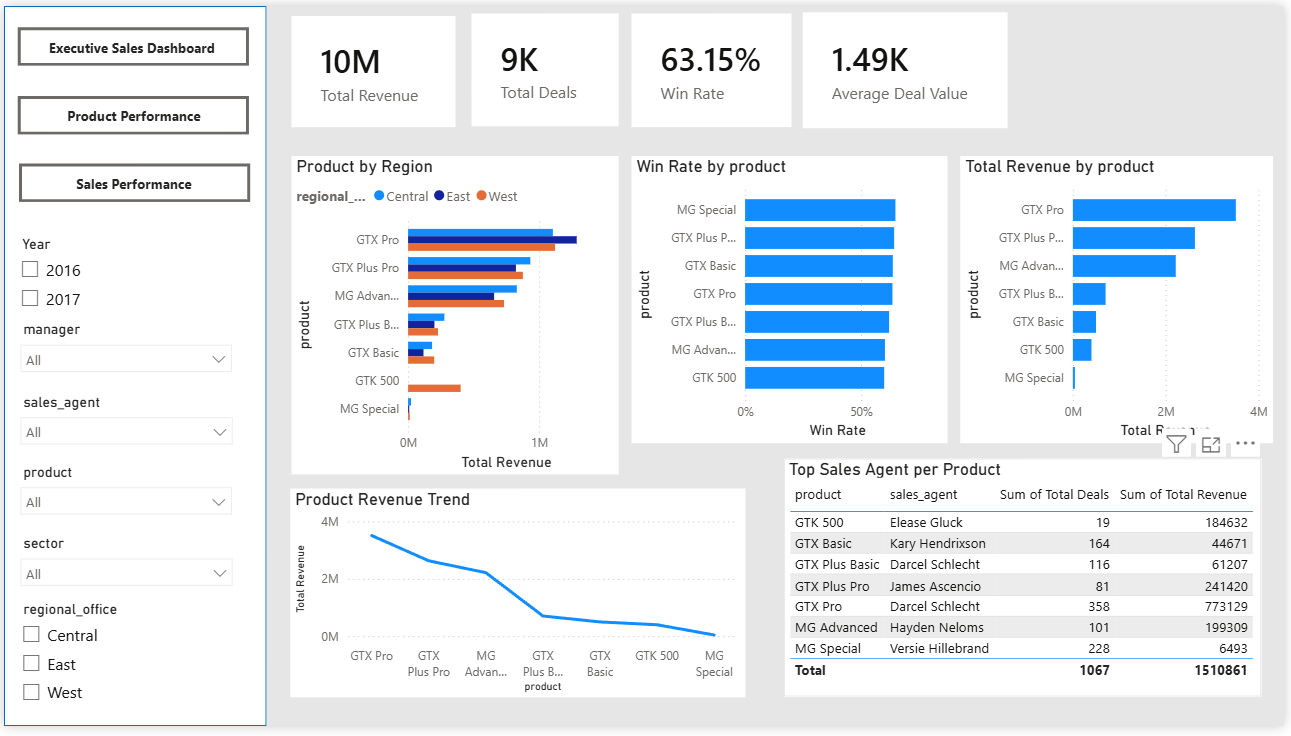

This screenshot's page, from the dashboard's own definition file:
{"tool":"powerbi","page":{"name":"Product Performance","canvas":[1280,720],"ordinal":1},"visuals":[{"type":"cardVisual","fields":{"Data":["Sales Pipeline.Total Revenue"]},"box":[287.5,10,163.8,111.2],"z":0},{"type":"actionButton","title":"Executive Sales Dashboard","box":[13.8,21.2,231.2,38.8],"z":0,"group":"g1"},{"type":"actionButton","title":"Executive Sales Dashboard","box":[13.8,90,231.2,38.8],"z":0,"group":"g2"},{"type":"actionButton","title":"Executive Sales Dashboard","box":[15,157.5,231.2,38.8],"z":0,"group":"g3"},{"type":"cardVisual","fields":{"Data":["Sales Pipeline.Total Deals"]},"box":[467.5,7.5,147.5,112.5],"z":1000},{"type":"textbox","box":[40,27.4,180,28.8],"z":1000,"group":"g1"},{"type":"textbox","box":[40,96.2,180,28.8],"z":1000,"group":"g2"},{"type":"textbox","box":[40,163.7,180,28.8],"z":1000,"group":"g3"},{"type":"cardVisual","fields":{"Data":["Sales Pipeline.Win Rate"]},"box":[627.5,7.5,160,113.8],"z":2000},{"type":"barChart","fields":{"Category":["Products.product"],"Y":["Sales Pipeline.Total Revenue"]},"box":[956.2,150,312.5,287.5],"z":3000},{"type":"cardVisual","fields":{"Data":["Sales Pipeline.Average Deal Value"]},"box":[798.8,6.2,205,116.2],"z":4000},{"type":"lineChart","title":"Product Revenue Trend","fields":{"Category":["Sales Pipeline.product"],"Y":["Sales Pipeline.Total Revenue"]},"box":[286.2,482.5,455,208.8],"z":5000},{"type":"clusteredBarChart","title":"Product by Region","fields":{"Category":["Sales Pipeline.product"],"Series":["Sales Teams.regional_office"],"Y":["Sales Pipeline.Total Revenue"]},"box":[287.5,150,327.5,318.8],"z":6000},{"type":"tableEx","title":"Top Sales Agent per Product","fields":{"Values":["Sales Product Summary.product","Sales Product Summary.sales_agent","Sum(Sales Product Summary.Total Deals)","Sum(Sales Product Summary.Total Revenue)"]},"box":[780,452.5,477.5,238.8],"z":7000},{"type":"shape","box":[0,0,262.5,720],"z":9000},{"type":"slicer","fields":{"Values":["Sales Teams.manager"]},"box":[6.2,310,231.2,61.2],"z":10000},{"type":"slicer","fields":{"Values":["Accounts.sector"]},"box":[6.3,523.6,232.5,66.2],"z":11000},{"type":"slicer","fields":{"Values":["Sales Teams.sales_agent"]},"box":[5.8,382.6,232.5,70],"z":12000},{"type":"slicer","fields":{"Values":["Products.product"]},"box":[5.8,452.6,231.2,62.5],"z":13000},{"type":"slicer","fields":{"Values":["Calendar.Year"]},"box":[4.8,225.6,152.9,90.5],"z":14000},{"type":"slicer","fields":{"Values":["Sales Teams.regional_office"]},"box":[6.3,589.8,233.8,125],"z":15000},{"type":"group","id":"g1","title":"Group 1","box":[13.8,21.2,231.2,38.8],"z":16000},{"type":"group","id":"g2","title":"Group 2","box":[13.8,90,231.2,38.8],"z":17000},{"type":"group","id":"g3","title":"Group 3","box":[15,157.5,231.2,38.8],"z":18000},{"type":"clusteredBarChart","fields":{"Category":["Sales Pipeline.product"],"Y":["Sales Pipeline.Win Rate"]},"box":[627.5,150,316.2,287.5],"z":18001}]}

Visuals, with their boxes on the page's 1280x720 design canvas (x1, y1, x2, y2). These are canvas units, not pixel positions in the 1291x736 screenshot, which may show the page scaled, cropped or inside an application window:
cardVisual - Sales Pipeline.Total Revenue: bbox=(288, 10, 451, 121)
"Executive Sales Dashboard" actionButton: bbox=(14, 21, 245, 60)
"Executive Sales Dashboard" actionButton: bbox=(14, 90, 245, 129)
"Executive Sales Dashboard" actionButton: bbox=(15, 158, 246, 196)
cardVisual - Sales Pipeline.Total Deals: bbox=(468, 8, 615, 120)
textbox: bbox=(40, 27, 220, 56)
textbox: bbox=(40, 96, 220, 125)
textbox: bbox=(40, 164, 220, 192)
cardVisual - Sales Pipeline.Win Rate: bbox=(628, 8, 788, 121)
barChart - Products.product x Sales Pipeline.Total Revenue: bbox=(956, 150, 1269, 438)
cardVisual - Sales Pipeline.Average Deal Value: bbox=(799, 6, 1004, 122)
"Product Revenue Trend" lineChart: bbox=(286, 482, 741, 691)
"Product by Region" clusteredBarChart: bbox=(288, 150, 615, 469)
"Top Sales Agent per Product" tableEx: bbox=(780, 452, 1258, 691)
shape: bbox=(0, 0, 262, 720)
slicer - Sales Teams.manager: bbox=(6, 310, 237, 371)
slicer - Accounts.sector: bbox=(6, 524, 239, 590)
slicer - Sales Teams.sales_agent: bbox=(6, 383, 238, 453)
slicer - Products.product: bbox=(6, 453, 237, 515)
slicer - Calendar.Year: bbox=(5, 226, 158, 316)
slicer - Sales Teams.regional_office: bbox=(6, 590, 240, 715)
"Group 1" group: bbox=(14, 21, 245, 60)
"Group 2" group: bbox=(14, 90, 245, 129)
"Group 3" group: bbox=(15, 158, 246, 196)
clusteredBarChart - Sales Pipeline.product x Sales Pipeline.Win Rate: bbox=(628, 150, 944, 438)
